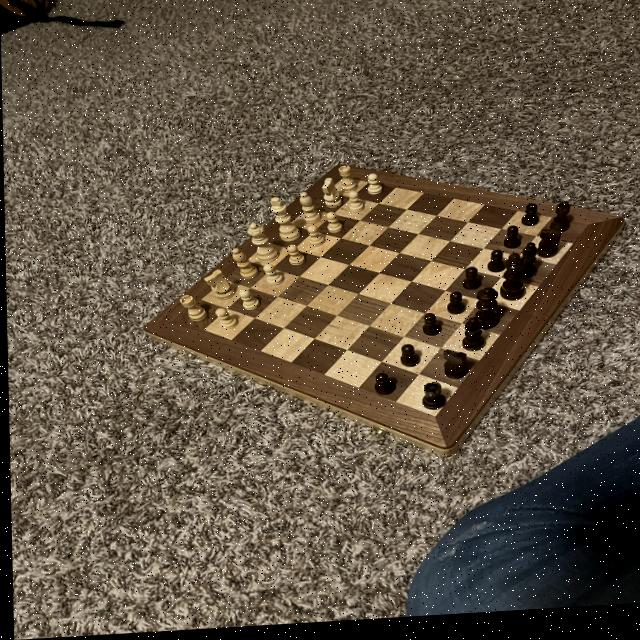bishop: (458, 321, 489, 358), (514, 247, 540, 287)
black-bishop: (496, 257, 531, 308)
black-king: (438, 352, 471, 388), (534, 232, 566, 266)
black-knight: (369, 374, 398, 404), (393, 346, 422, 375), (460, 269, 484, 299), (417, 315, 442, 343), (518, 206, 542, 235), (442, 294, 466, 322), (485, 252, 505, 281), (501, 229, 521, 257)
black-pawn: (470, 292, 502, 337)
black-queen: (415, 385, 448, 419), (545, 206, 574, 243)
black-rook: (229, 249, 259, 286), (296, 194, 322, 231)
white-bishop: (266, 197, 301, 247)
white-king: (199, 269, 235, 303), (319, 179, 347, 215)
white-knight: (258, 264, 286, 291), (213, 310, 242, 335), (283, 245, 307, 272), (237, 290, 261, 314), (364, 176, 384, 202), (344, 194, 364, 220), (304, 228, 325, 252), (323, 214, 343, 239)
white-pawn: (244, 223, 280, 268)
white-queen: (177, 293, 211, 326), (336, 168, 358, 198)
